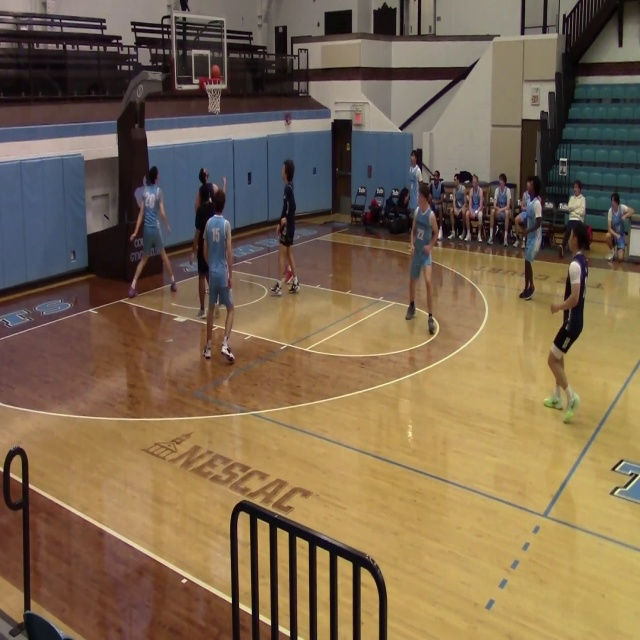Basketball: (515, 212, 527, 227), (210, 64, 221, 79), (280, 218, 286, 226)
